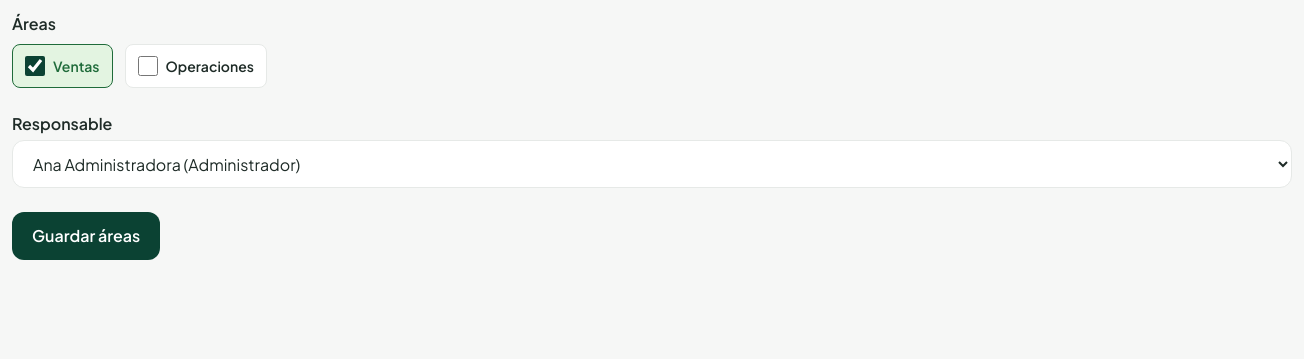
ChangeAreasForm (spec 003, R3 a R5; plan 003, 6.2) › errores de la API, sin perder lo elegido › 409 ARCHIVED: su mensaje
The width and height of the screenshot is (1304, 359).
Expected: the element "Áreas" is shown, [12,13,267,88]
Expected: the dropdown labelled "Responsable" is enabled, [12,140,1292,188]
Click the checkbox labelled "Ventas" at (35, 66), box [25,56,45,76]
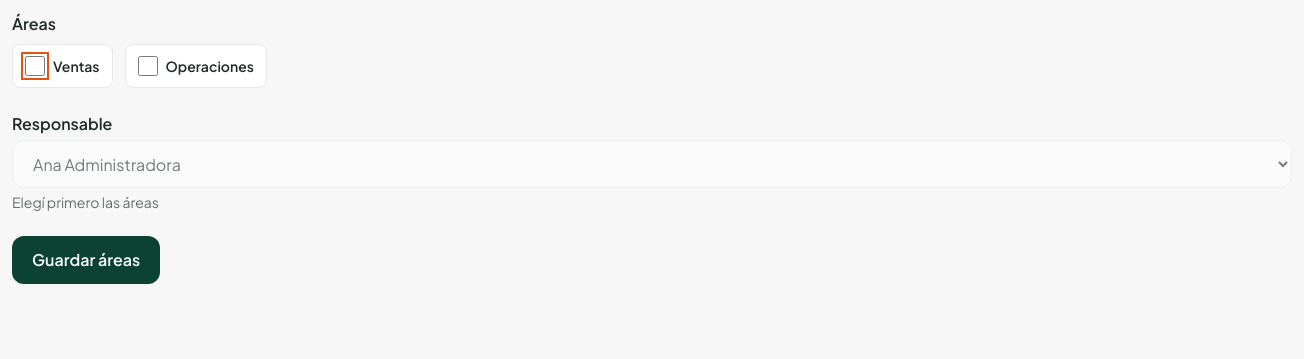
Click the checkbox labelled "Operaciones" at (148, 66), box [138,56,158,76]
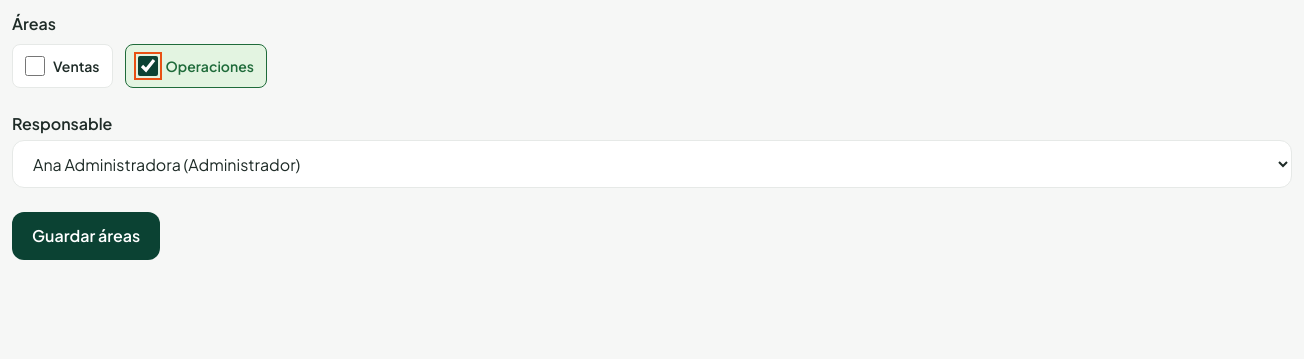
Click the button "Guardar áreas" at (86, 236), box [12,212,160,260]
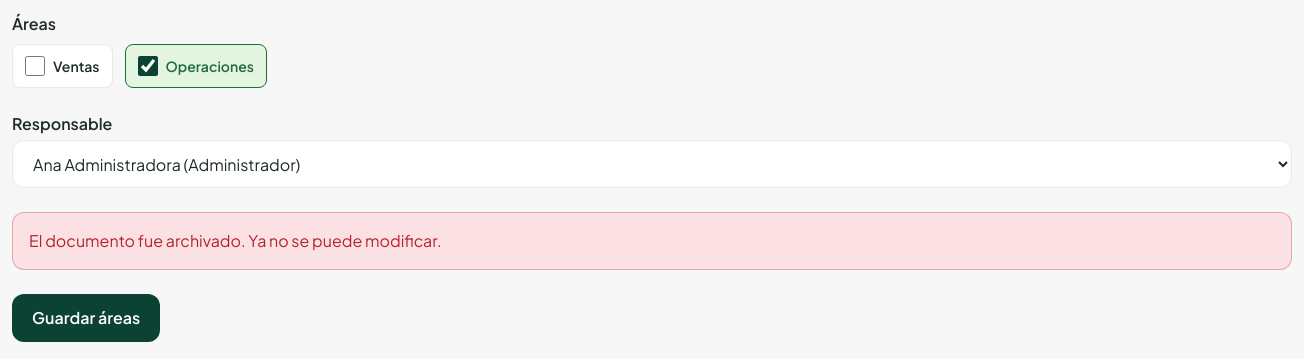
Now the message reads "El documento fue archivado. Ya no se puede modificar.", box [29,230,442,251]
